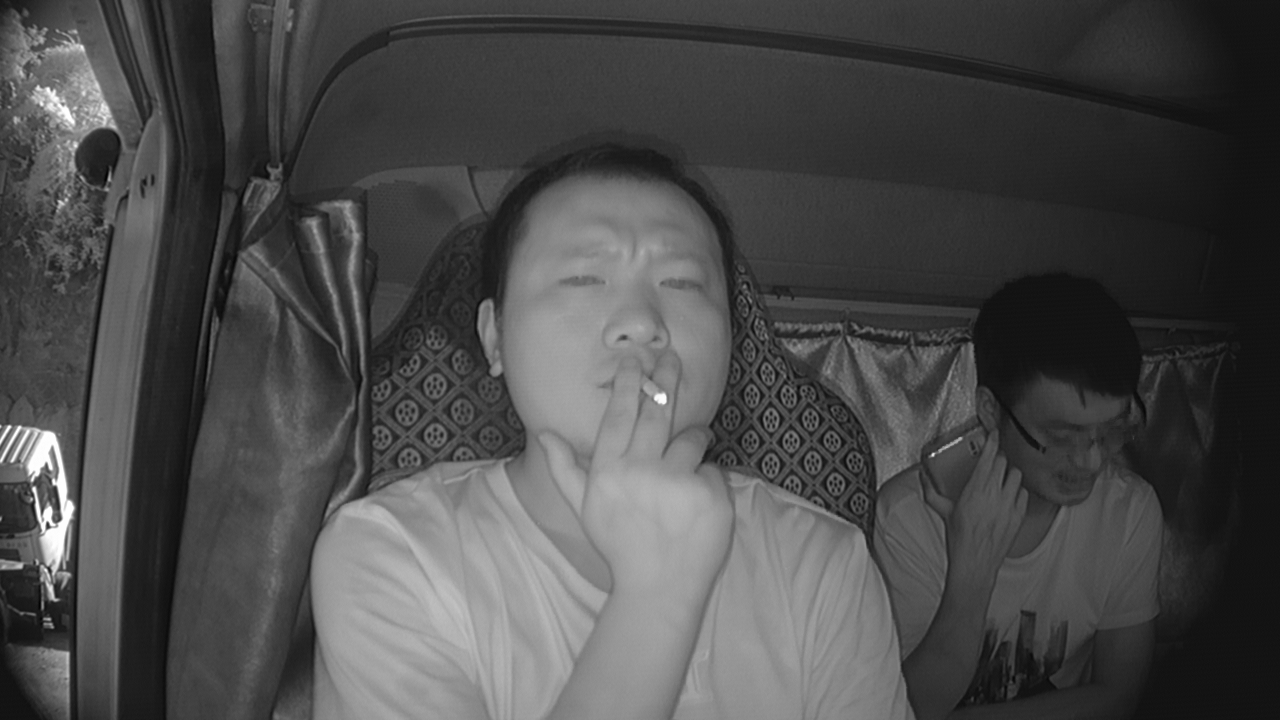hand: (582, 362, 733, 547)
